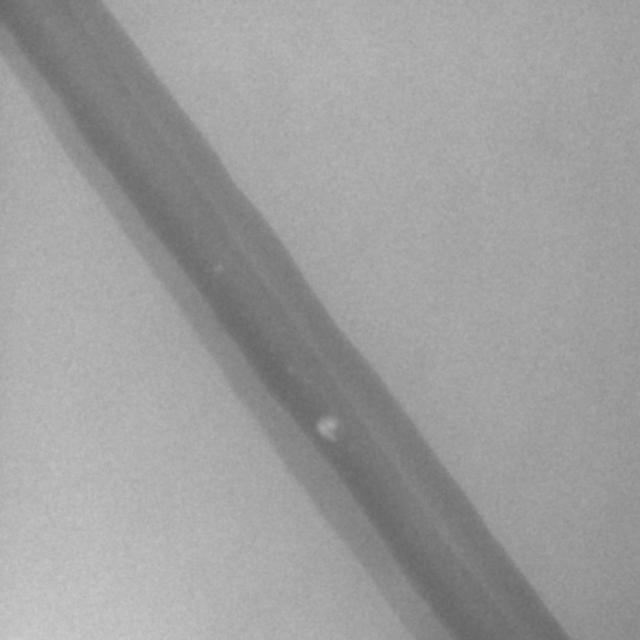air hole: (213, 261, 223, 273)
slag inclusion: (316, 416, 338, 443)
